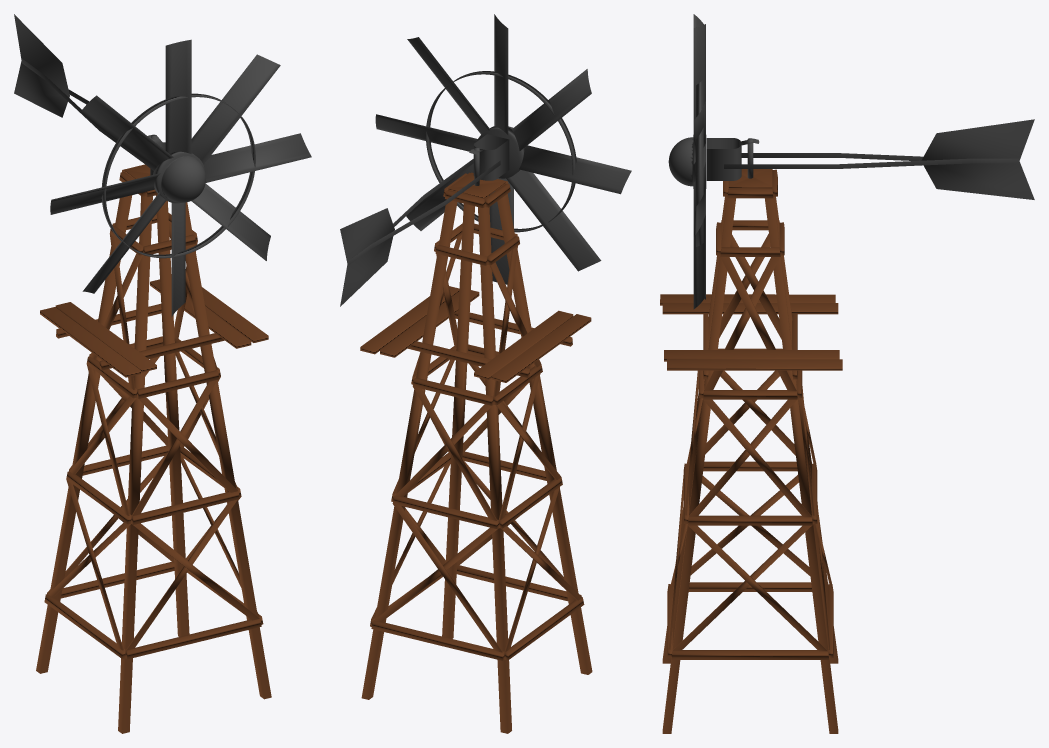
Rendered from windmill.glb.
3 renders of one model, left to right at view 1: azimuth 30°, elevation 25°; view 2: azimuth 150°, elevation 25°; view 3: azimuth 270°, elevation 25°, orthographic. The views are drawn at different scales.
Visible parts, largest first — view 1: Tower_0, Rotor_0; view 2: Tower_0, Rotor_0; view 3: Tower_0, Rotor_0.
Part boxes in pixels (x1,y1,x2,y2): Tower_0: (36,164,271,733); Rotor_0: (14,14,311,316); Tower_0: (360,172,592,733); Rotor_0: (340,14,631,306); Tower_0: (660,169,842,733); Rotor_0: (668,14,1034,309).
Size of the model in its own units: 69.67 by 169 by 85.32.
